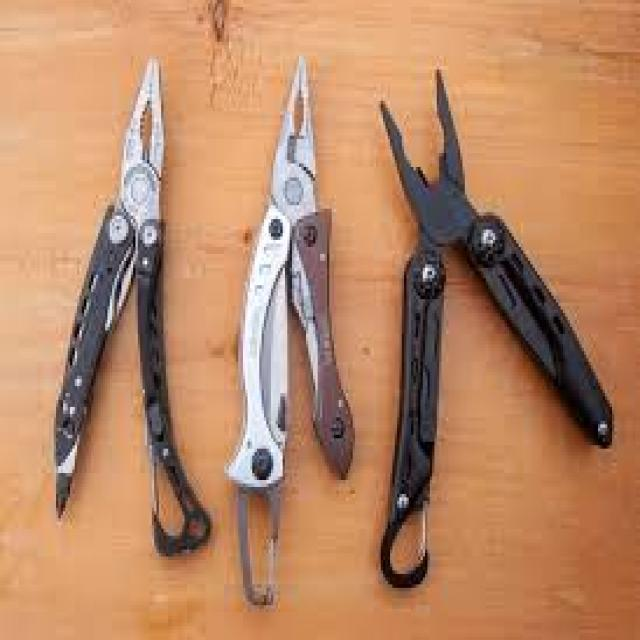pliers: (370, 56, 548, 556), (46, 31, 188, 473), (228, 18, 356, 476)
